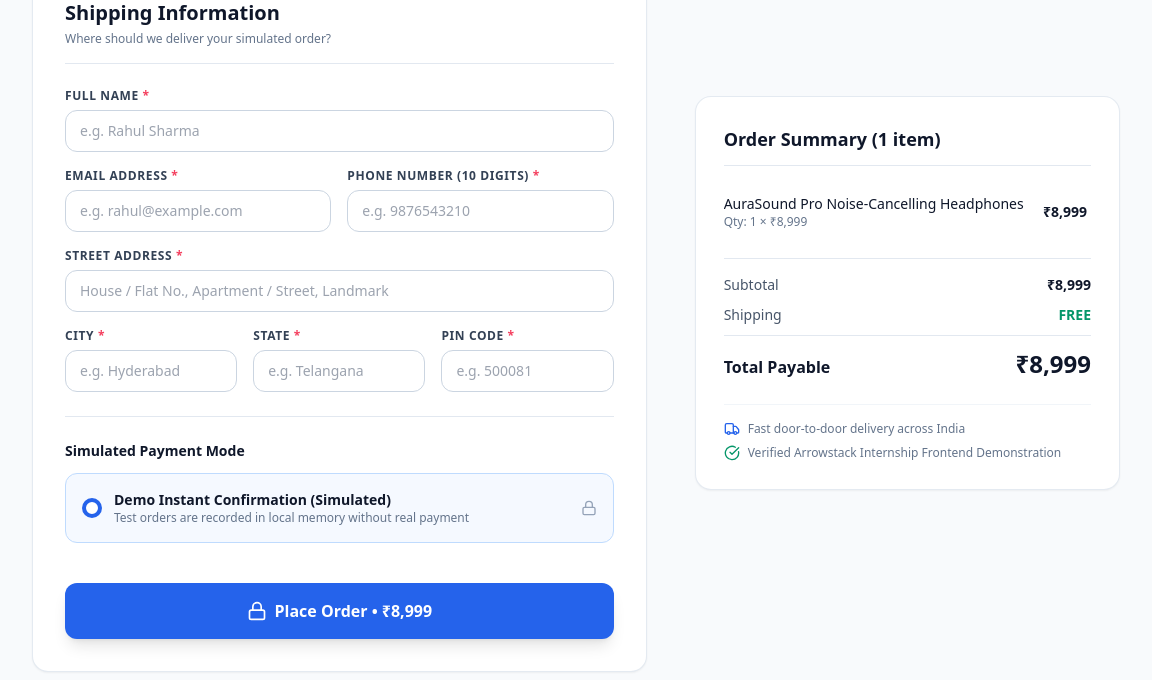
Scenario: Checkout Form and Validation › rejects an empty form submission and displays field errors
(page scrolled)
Expected: the heading "Shipping Information" is shown, [65,0,280,26]
Click the button "Place Order • ₹8,999" at (339, 611), box [65,583,614,639]
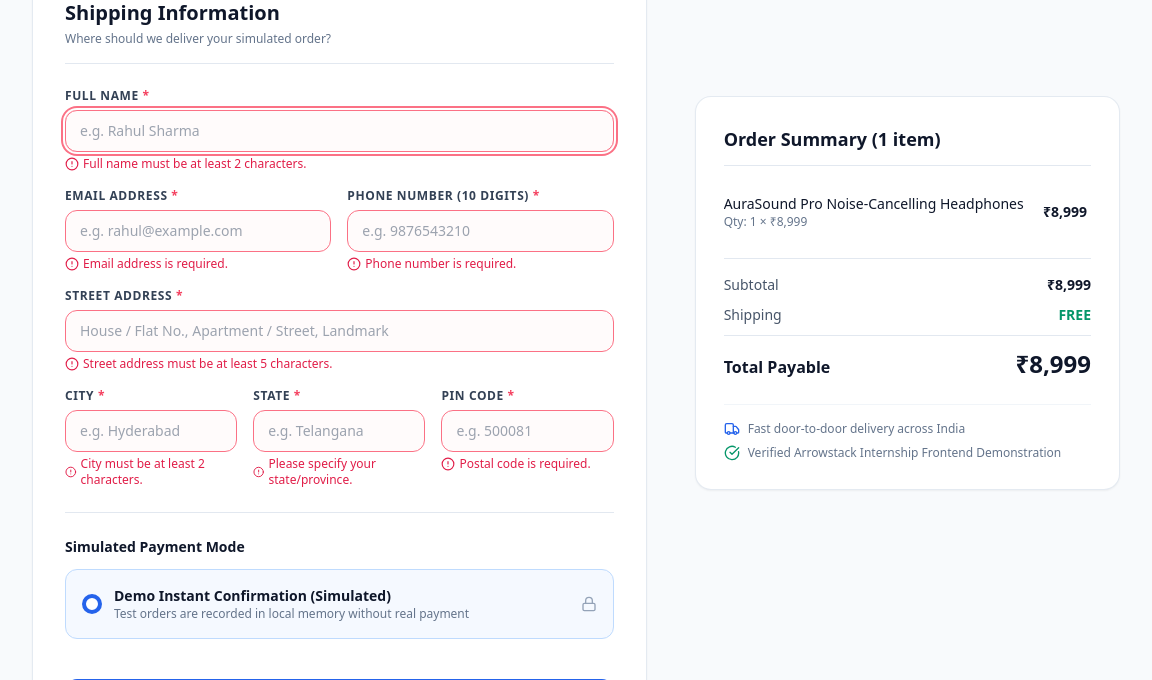
Now the text "Full name must be at least 2 characters." is shown, box [65,155,306,172]
Now the text "Email address is required." is shown, box [65,255,228,272]
Now the text "Phone number is required." is shown, box [347,255,516,272]
